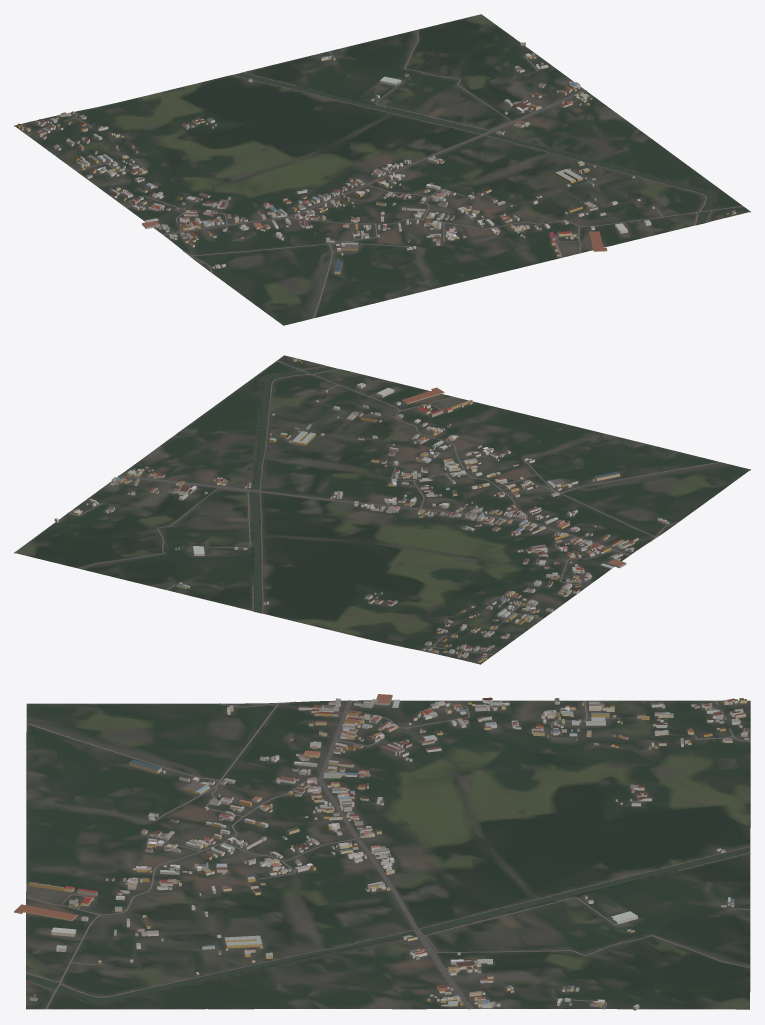
3 views of the same model, one above another, from view 1: azimuth 30°, elevation 25°; view 2: azimuth 150°, elevation 25°; view 3: azimuth 270°, elevation 25° (orthographic). The views are drawn at different scales.
Parts seen in each view (by area): view 1: ground, buildings, roads, water; view 2: ground, buildings, roads, water; view 3: ground, buildings, roads, water.
Part boxes in pixels (bbox=[...]): ground: bbox=[14, 14, 750, 325]; buildings: bbox=[17, 42, 736, 274]; roads: bbox=[27, 29, 743, 318]; water: bbox=[234, 73, 715, 224]; ground: bbox=[14, 355, 750, 664]; buildings: bbox=[54, 358, 669, 662]; roads: bbox=[68, 360, 720, 655]; water: bbox=[251, 366, 335, 612]; ground: bbox=[26, 700, 750, 1009]; buildings: bbox=[14, 694, 749, 1010]; roads: bbox=[26, 700, 750, 1009]; water: bbox=[26, 847, 749, 1003].
Size of the model in its own units: 1425 by 18.84 by 1425.
